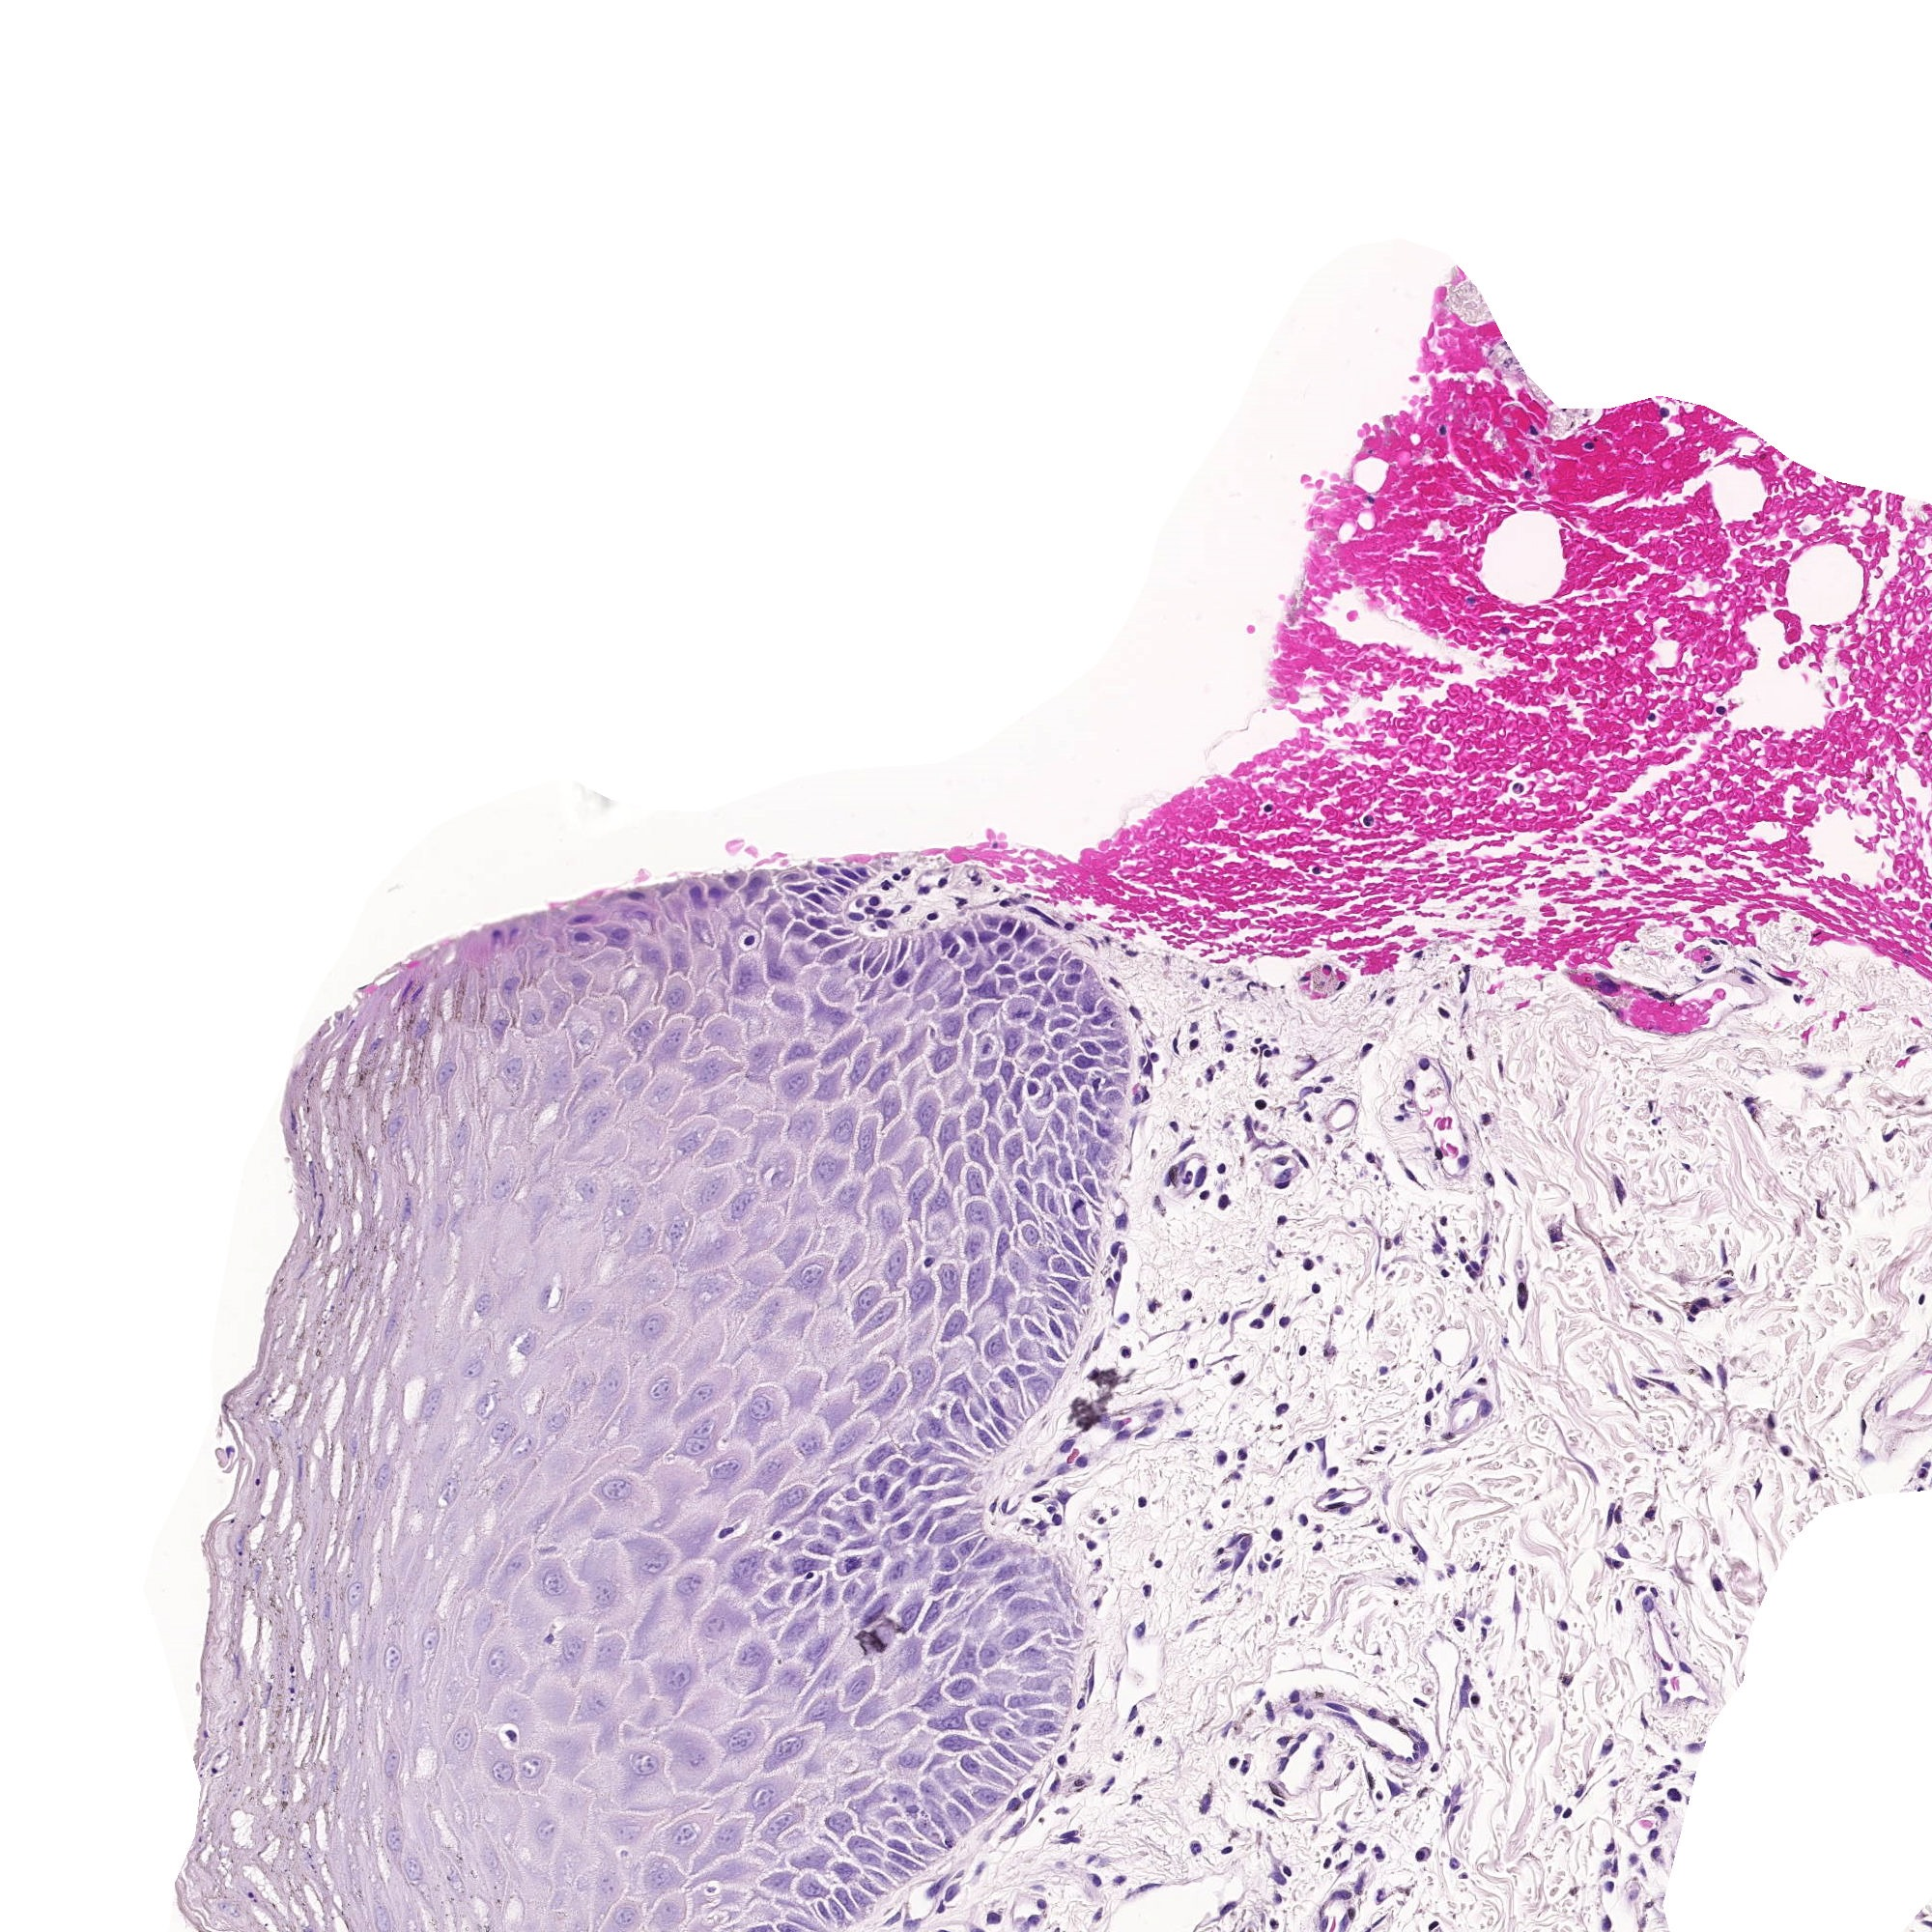epithelial: (985, 1651, 994, 1661), (975, 1210, 985, 1219), (738, 1201, 747, 1210), (605, 1881, 614, 1890), (709, 1067, 720, 1074), (492, 1656, 502, 1663), (605, 1645, 612, 1656), (642, 1760, 653, 1767), (743, 975, 752, 982), (715, 1030, 724, 1037), (586, 1184, 593, 1192), (552, 1578, 559, 1587), (391, 1835, 398, 1844), (541, 1829, 550, 1836), (722, 1835, 731, 1842), (623, 1913, 632, 1920), (837, 1819, 846, 1826), (966, 1759, 973, 1767), (741, 1560, 750, 1568), (1056, 1263, 1063, 1272), (971, 1242, 980, 1249), (644, 1230, 649, 1240), (460, 1736, 465, 1746), (745, 1652, 755, 1658), (893, 1571, 904, 1576), (1012, 1263, 1023, 1269), (922, 1111, 932, 1116), (901, 973, 906, 984), (556, 1076, 563, 1083), (688, 1139, 695, 1146), (709, 1185, 717, 1192), (524, 1343, 531, 1350), (616, 1486, 623, 1493), (600, 1591, 607, 1598), (685, 1582, 692, 1589), (674, 1675, 681, 1683), (692, 1757, 699, 1764), (623, 1833, 630, 1840), (775, 1881, 782, 1888), (786, 1743, 793, 1750), (791, 1631, 798, 1638), (964, 1658, 971, 1665), (810, 1437, 817, 1444), (955, 1408, 962, 1415), (918, 1371, 925, 1378), (957, 1384, 964, 1391), (975, 1274, 982, 1281), (939, 1056, 947, 1063), (1086, 996, 1093, 1003), (529, 1016, 538, 1021), (671, 1035, 676, 1044), (649, 1323, 658, 1329), (428, 1635, 433, 1644), (570, 1645, 579, 1651), (984, 1794, 993, 1799), (952, 1739, 961, 1744), (957, 1686, 966, 1691), (978, 1714, 984, 1723), (814, 1546, 823, 1552), (840, 1437, 849, 1442), (617, 931, 625, 936), (442, 1069, 449, 1074), (679, 957, 685, 964), (824, 1086, 832, 1092), (660, 1088, 667, 1093), (456, 1132, 462, 1139), (623, 1198, 628, 1205), (718, 1146, 725, 1152), (660, 1387, 667, 1392), (701, 1391, 706, 1398), (653, 1562, 658, 1569), (713, 1622, 718, 1629), (391, 1656, 398, 1661), (499, 1769, 506, 1775), (594, 1698, 602, 1704), (529, 1762, 534, 1769), (741, 1736, 747, 1743), (683, 1831, 690, 1836), (658, 1874, 665, 1879), (807, 1886, 814, 1891), (840, 1895, 846, 1902), (775, 1822, 782, 1828), (759, 1798, 766, 1803), (943, 1638, 950, 1644), (1010, 1635, 1017, 1640), (847, 1589, 855, 1594), (856, 1543, 863, 1548), (904, 1525, 908, 1536), (759, 1405, 766, 1410), (1003, 1571, 1010, 1576), (867, 1378, 874, 1384), (1069, 1240, 1074, 1247), (1028, 1233, 1035, 1238), (952, 1323, 959, 1329), (888, 1214, 893, 1221), (1012, 1146, 1017, 1154), (947, 1131, 954, 1136), (971, 1115, 977, 1122), (1037, 1069, 1044, 1074), (1012, 1037, 1017, 1044), (1074, 1076, 1079, 1083), (1088, 1099, 1093, 1106), (1113, 1092, 1118, 1099), (594, 1116, 603, 1120), (786, 1675, 794, 1679), (906, 1757, 915, 1760), (800, 1562, 809, 1566), (948, 1534, 957, 1537), (1054, 1304, 1063, 1307), (556, 1005, 561, 1010), (497, 1024, 502, 1030), (642, 1026, 648, 1031), (589, 1079, 594, 1085), (632, 1079, 637, 1085), (793, 1081, 798, 1086), (393, 1122, 398, 1127), (580, 1307, 586, 1313), (499, 1430, 504, 1435), (694, 1442, 699, 1447), (389, 1762, 395, 1767), (819, 1707, 824, 1713), (952, 1806, 957, 1812), (1003, 1750, 1008, 1755), (1003, 1730, 1008, 1736), (931, 1697, 936, 1702), (791, 1493, 796, 1499), (876, 1453, 881, 1458), (947, 1560, 952, 1566), (964, 1546, 970, 1552), (985, 1557, 991, 1562), (1005, 1589, 1010, 1594), (932, 1426, 938, 1431), (1031, 1327, 1037, 1332), (863, 1295, 869, 1300), (842, 1267, 847, 1272), (893, 1261, 899, 1267), (916, 1288, 922, 1293), (1017, 1184, 1023, 1189), (1005, 1069, 1010, 1074), (579, 936, 586, 939), (508, 985, 511, 993), (510, 1065, 517, 1069), (674, 996, 681, 1000), (846, 872, 853, 876), (499, 1185, 502, 1192), (674, 1230, 678, 1237), (610, 1380, 614, 1387), (702, 1426, 706, 1433), (839, 1870, 846, 1874), (833, 1905, 837, 1913), (807, 1858, 814, 1861), (855, 1684, 862, 1688), (770, 1465, 777, 1468), (895, 1465, 899, 1472), (1065, 1283, 1072, 1286), (1076, 1265, 1083, 1269), (824, 1168, 832, 1171), (975, 1141, 978, 1148), (971, 971, 978, 975), (888, 962, 892, 970), (754, 1051, 759, 1054), (860, 1069, 863, 1074), (711, 892, 717, 895), (816, 922, 819, 927), (485, 1302, 488, 1307), (430, 1399, 433, 1405), (725, 1470, 729, 1476), (513, 1562, 517, 1568), (352, 1589, 356, 1594), (409, 1870, 414, 1874), (826, 1675, 832, 1679), (855, 1840, 860, 1844), (895, 1858, 901, 1861), (1044, 1725, 1049, 1729), (874, 1560, 878, 1566), (895, 1497, 899, 1502), (947, 1507, 950, 1513), (984, 1437, 989, 1440), (994, 1403, 998, 1408), (1005, 1375, 1008, 1380), (879, 1315, 883, 1320), (812, 1274, 817, 1277), (947, 1274, 950, 1279), (941, 1200, 947, 1203), (973, 1180, 978, 1184), (918, 1189, 922, 1194), (846, 1192, 851, 1196), (1088, 1185, 1093, 1189), (1058, 1079, 1062, 1085), (1081, 1062, 1086, 1065), (1056, 1039, 1060, 1044), (1086, 1046, 1092, 1049), (1070, 978, 1076, 982), (1026, 975, 1031, 978), (987, 987, 991, 993), (1021, 931, 1024, 936), (968, 934, 971, 939), (1056, 1023, 1065, 1024), (800, 1049, 803, 1053), (821, 869, 824, 872), (837, 931, 844, 932), (856, 1895, 860, 1898), (865, 1884, 869, 1888), (869, 1856, 872, 1859), (961, 1796, 964, 1799), (902, 1789, 906, 1792), (952, 1720, 955, 1723), (1014, 1700, 1021, 1702), (941, 1582, 945, 1585), (821, 1495, 824, 1499), (881, 1483, 883, 1490), (867, 1509, 870, 1513), (913, 1474, 916, 1477), (924, 1527, 927, 1530), (950, 1445, 957, 1447), (893, 1387, 897, 1391), (994, 1345, 998, 1348), (1054, 1329, 1058, 1332), (863, 1138, 867, 1141), (1065, 1169, 1069, 1173), (892, 1106, 895, 1109), (1044, 973, 1047, 977), (1083, 1116, 1086, 1120), (633, 895, 639, 897), (796, 888, 801, 890), (895, 1844, 901, 1845), (920, 1447, 925, 1449), (901, 952, 902, 957), (1005, 927, 1010, 929), (1109, 1044, 1115, 1046), (580, 918, 584, 920), (812, 897, 816, 899), (823, 890, 826, 892), (471, 1369, 474, 1371), (771, 1592, 773, 1596), (975, 1412, 978, 1414), (1000, 1424, 1001, 1428), (1053, 1353, 1054, 1357), (1003, 1242, 1005, 1246), (844, 1127, 846, 1131), (1033, 1051, 1037, 1053), (1095, 1021, 1099, 1023), (1047, 1000, 1051, 1001), (1001, 947, 1005, 948), (1102, 1131, 1106, 1132), (1063, 994, 1065, 996), (1003, 970, 1005, 971), (874, 971, 876, 973), (867, 961, 869, 962), (835, 952, 837, 954), (823, 939, 824, 941), (947, 939, 948, 941), (1341, 984, 1343, 985)
fibroblast and endothelial: (1065, 1442, 1070, 1451), (1663, 1382, 1672, 1387), (1033, 909, 1040, 915), (1483, 1403, 1488, 1410), (1520, 1299, 1525, 1306), (1619, 1184, 1622, 1194), (1090, 1679, 1093, 1688), (881, 911, 890, 915), (1645, 1599, 1649, 1608), (1024, 1790, 1030, 1796), (1152, 1414, 1157, 1419), (1223, 1562, 1228, 1568), (1408, 1173, 1414, 1178), (1408, 1083, 1414, 1088), (1366, 1154, 1371, 1159), (1053, 1783, 1056, 1790), (1200, 1173, 1203, 1180), (1226, 1905, 1233, 1909), (1414, 1734, 1421, 1737), (1465, 1679, 1468, 1686), (1621, 1552, 1628, 1555), (1476, 1261, 1479, 1269), (1707, 968, 1714, 971), (1716, 1582, 1720, 1589), (872, 899, 876, 904), (1120, 1219, 1123, 1224), (1290, 1454, 1295, 1458), (1235, 1537, 1240, 1541), (1146, 1884, 1157, 1886), (1392, 1785, 1396, 1790), (1336, 1844, 1339, 1849), (1658, 1810, 1663, 1813), (1615, 1514, 1619, 1520), (1608, 1260, 1612, 1265), (1421, 1063, 1426, 1067), (1656, 993, 1660, 998), (1702, 1300, 1707, 1304), (1769, 1419, 1773, 1424), (1063, 1495, 1065, 1504), (908, 1925, 911, 1928), (934, 1888, 938, 1891), (950, 1890, 954, 1893), (1065, 1840, 1072, 1842), (1012, 1801, 1016, 1805), (1079, 1461, 1083, 1465), (853, 915, 856, 918), (922, 890, 925, 893), (1284, 1173, 1286, 1180), (1277, 1161, 1284, 1162), (1302, 1736, 1306, 1739), (1293, 1746, 1297, 1750), (1258, 1805, 1261, 1808), (1277, 1877, 1281, 1881), (1116, 1879, 1120, 1882), (1453, 1861, 1456, 1865), (1339, 1865, 1346, 1867), (1652, 1833, 1654, 1840), (1644, 1720, 1647, 1723), (1663, 1695, 1667, 1698), (1683, 1665, 1686, 1668), (1396, 1580, 1403, 1582), (1472, 1361, 1476, 1364), (1368, 1322, 1371, 1325), (1437, 1154, 1440, 1157), (1706, 1373, 1709, 1376), (1067, 1835, 1072, 1836), (904, 909, 909, 911), (886, 885, 888, 890), (941, 879, 943, 885), (1304, 1161, 1306, 1166), (1279, 1185, 1284, 1187), (1123, 1253, 1125, 1258), (1223, 1316, 1224, 1322), (1330, 1506, 1336, 1507), (1276, 1560, 1277, 1566), (1131, 1711, 1132, 1716), (1139, 1628, 1141, 1633), (1283, 1760, 1284, 1766), (1339, 1893, 1345, 1895), (1323, 1923, 1325, 1928), (1350, 1913, 1352, 1918), (1610, 1845, 1612, 1851), (1437, 1352, 1438, 1357), (1776, 978, 1782, 980), (1042, 1902, 1044, 1905), (1033, 1918, 1035, 1921), (1097, 1914, 1099, 1918), (1039, 1525, 1042, 1527), (993, 1507, 994, 1511), (1012, 1509, 1016, 1511), (1039, 1484, 1042, 1486), (879, 924, 883, 925), (1092, 941, 1095, 943), (1129, 952, 1132, 954), (1111, 980, 1115, 982), (1325, 1077, 1329, 1079), (1145, 1095, 1146, 1099), (1332, 1470, 1334, 1474), (1329, 1490, 1332, 1491), (1184, 1431, 1185, 1435), (1293, 1621, 1295, 1624), (1238, 1557, 1240, 1560), (1293, 1695, 1295, 1698), (1334, 1706, 1338, 1707), (1309, 1713, 1311, 1716), (1283, 1739, 1286, 1741), (1269, 1810, 1272, 1812), (1348, 1720, 1352, 1721), (1391, 1720, 1394, 1721), (1369, 1743, 1373, 1744), (1387, 1755, 1391, 1757), (1557, 1806, 1559, 1810), (1606, 1748, 1608, 1752), (1654, 1787, 1658, 1789), (1661, 1773, 1663, 1776), (1670, 1767, 1674, 1769), (1421, 1555, 1422, 1559), (1649, 1511, 1651, 1514), (1483, 1380, 1486, 1382), (1638, 1382, 1642, 1384), (1435, 1247, 1438, 1249), (1555, 1237, 1557, 1240), (1463, 1161, 1465, 1164), (1744, 978, 1748, 980), (1721, 941, 1725, 943), (893, 1918, 895, 1920), (867, 909, 869, 911), (1132, 1010, 1134, 1012), (1281, 1219, 1283, 1221), (1116, 1274, 1118, 1276), (1109, 1283, 1111, 1284), (1320, 1442, 1322, 1444), (1330, 1736, 1332, 1737), (1456, 1808, 1458, 1810), (1371, 1713, 1373, 1714), (1414, 1746, 1415, 1748), (1578, 1792, 1580, 1794), (1675, 1760, 1677, 1762), (1619, 1608, 1621, 1610), (1511, 1178, 1513, 1180), (1686, 1164, 1688, 1166), (1368, 1046, 1369, 1047), (1753, 961, 1755, 962), (1909, 1049, 1911, 1051), (1819, 1214, 1821, 1215)
inflammatory: (1267, 1306, 1272, 1315), (847, 1562, 856, 1566), (1237, 1376, 1242, 1382), (1192, 1844, 1198, 1849), (1785, 1447, 1789, 1454), (1272, 1923, 1277, 1927), (1637, 1589, 1642, 1592), (1394, 1536, 1399, 1539), (1254, 1322, 1258, 1325), (1191, 1359, 1194, 1362), (1279, 1408, 1283, 1412), (1261, 1566, 1265, 1569), (1359, 1845, 1362, 1849), (1474, 1697, 1477, 1700), (1720, 708, 1723, 711), (1921, 1470, 1923, 1477), (1221, 1456, 1223, 1461), (1378, 1792, 1380, 1798), (1518, 786, 1520, 791), (1267, 807, 1270, 809), (1368, 817, 1369, 821), (1189, 1178, 1191, 1182), (1309, 1444, 1311, 1447), (1320, 1766, 1322, 1769), (1419, 1854, 1422, 1856), (1378, 1851, 1380, 1854), (1674, 1792, 1675, 1796), (1560, 1622, 1562, 1626), (1378, 1893, 1380, 1897), (1426, 1417, 1428, 1421), (1329, 1138, 1330, 1141), (1527, 472, 1529, 476), (1534, 428, 1536, 432), (1442, 428, 1444, 432), (1125, 1352, 1127, 1353), (1138, 1729, 1139, 1730), (1116, 1757, 1118, 1759), (1617, 1564, 1619, 1566), (1652, 717, 1654, 718), (1589, 444, 1591, 446), (1369, 499, 1371, 501), (1665, 410, 1667, 412), (1723, 1283, 1725, 1284)
lymphocyte: (1141, 1431, 1148, 1437), (1224, 1847, 1230, 1852), (1283, 1318, 1286, 1325), (1269, 1495, 1272, 1502), (1302, 1518, 1306, 1523), (1276, 1532, 1279, 1537), (724, 1530, 727, 1534), (1079, 1702, 1083, 1706), (1088, 1545, 1092, 1548), (895, 876, 899, 879), (1067, 924, 1070, 927), (1154, 1054, 1157, 1058), (1258, 1102, 1261, 1106), (1307, 1263, 1311, 1267), (1185, 1293, 1189, 1297), (1141, 1500, 1145, 1504), (1442, 1012, 1445, 1016), (1120, 1435, 1125, 1437), (1327, 1861, 1329, 1867), (1430, 1392, 1431, 1398), (748, 938, 750, 941), (993, 1916, 994, 1920), (1100, 1520, 1104, 1522), (1031, 1086, 1033, 1090), (954, 948, 955, 952), (931, 916, 934, 918), (906, 870, 908, 874), (1267, 1053, 1270, 1054), (1192, 1044, 1196, 1046), (1316, 1088, 1320, 1090), (1307, 1116, 1309, 1120), (1208, 1070, 1210, 1074), (1203, 1192, 1205, 1196), (1223, 1201, 1224, 1205), (1302, 1350, 1304, 1353), (1223, 1504, 1226, 1506), (1316, 1546, 1318, 1550), (1318, 1527, 1320, 1530), (1233, 1760, 1235, 1764), (1277, 1801, 1281, 1803), (1286, 1868, 1288, 1872), (1431, 1925, 1435, 1927), (1568, 1812, 1569, 1815), (1417, 1702, 1421, 1704), (1652, 1589, 1654, 1592), (1444, 1272, 1447, 1274), (775, 1534, 778, 1536), (511, 1734, 513, 1736), (711, 1890, 713, 1891), (1097, 1881, 1099, 1882), (1062, 1759, 1063, 1760), (1037, 1499, 1039, 1500), (927, 1261, 929, 1263), (1254, 1049, 1256, 1051), (1221, 1168, 1223, 1169), (1095, 1083, 1097, 1085), (1267, 1557, 1269, 1559), (1456, 1621, 1458, 1622), (1435, 1767, 1437, 1769), (1414, 1550, 1415, 1552), (1401, 1106, 1403, 1108)
